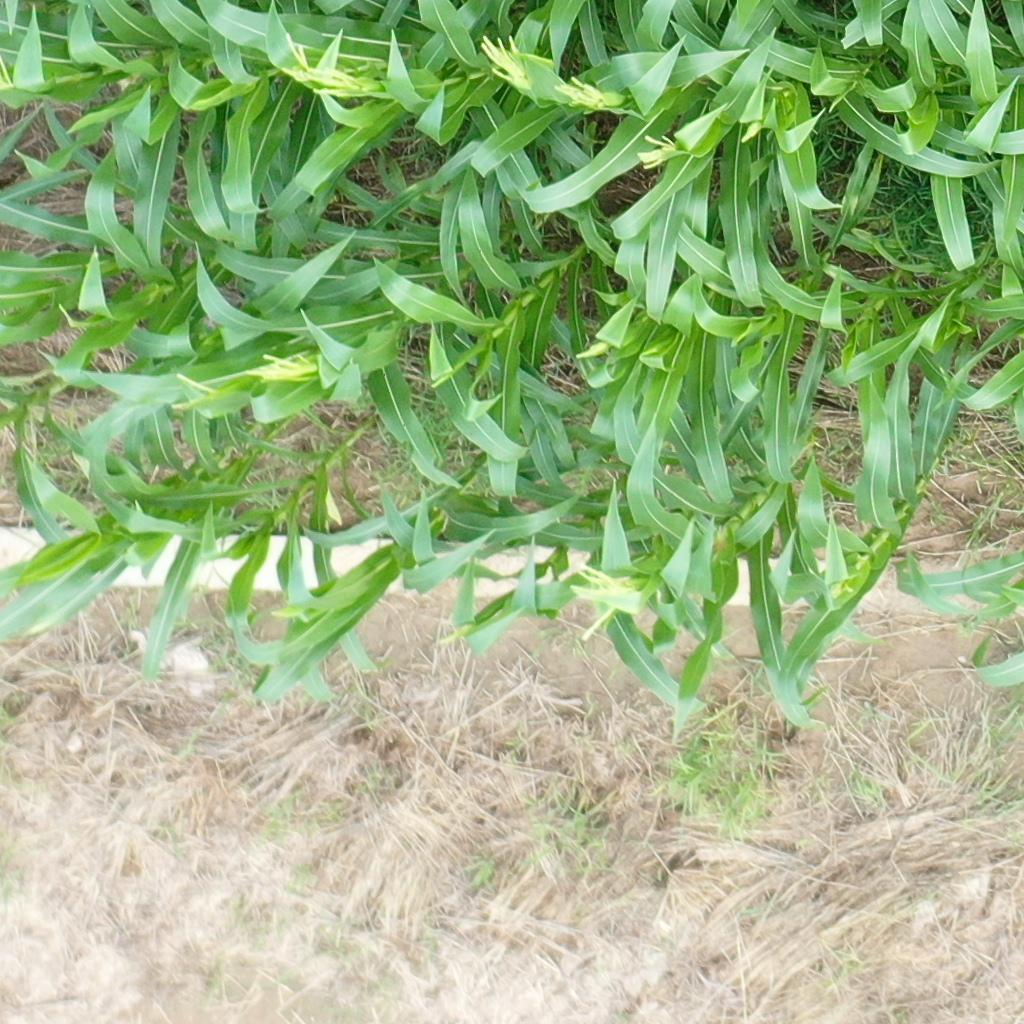Tassel: (279, 31, 381, 101), (570, 561, 642, 643), (556, 70, 620, 122), (478, 33, 536, 89), (246, 352, 323, 384), (163, 372, 223, 412), (633, 128, 682, 172), (573, 340, 613, 362), (828, 580, 856, 603), (738, 117, 761, 141)
